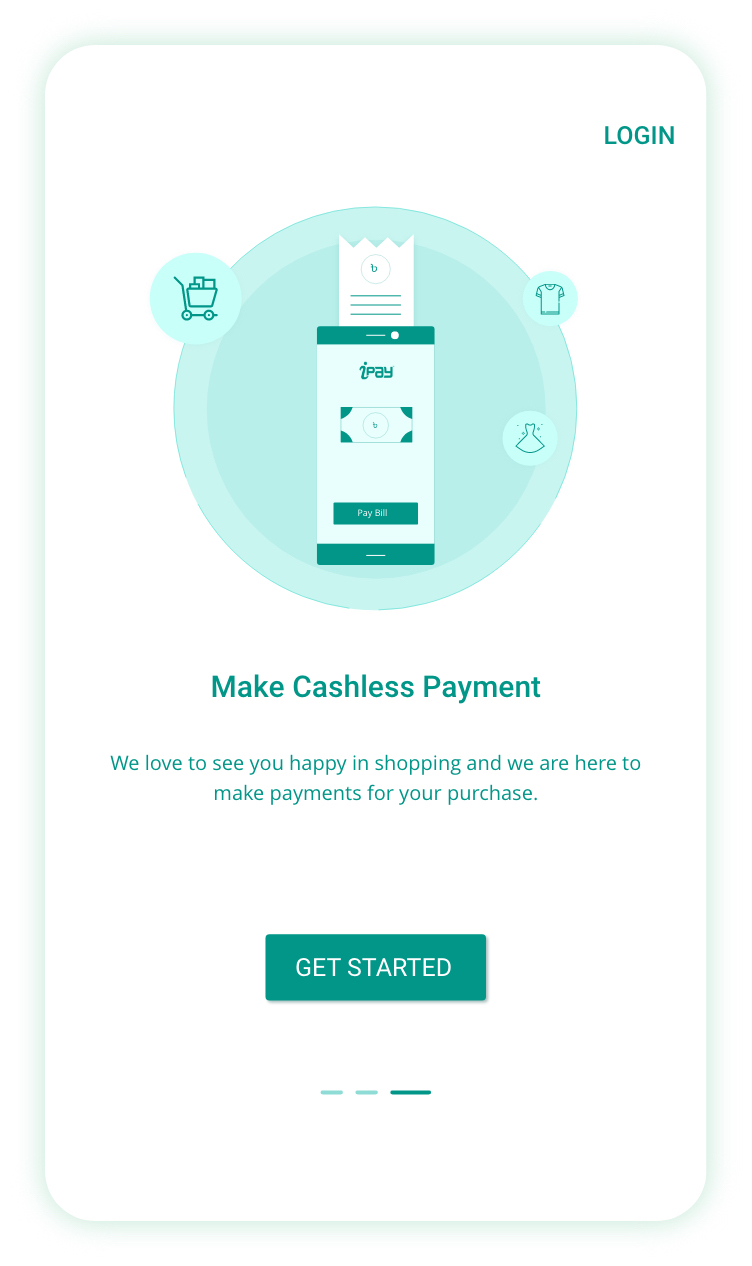Card: (45, 46, 707, 1222)
Image: (150, 207, 579, 611)
PageIndicator: (320, 1089, 432, 1096)
Text: (111, 754, 641, 806), (212, 674, 541, 705), (604, 126, 675, 146)
TextButton: (266, 934, 487, 1001)
